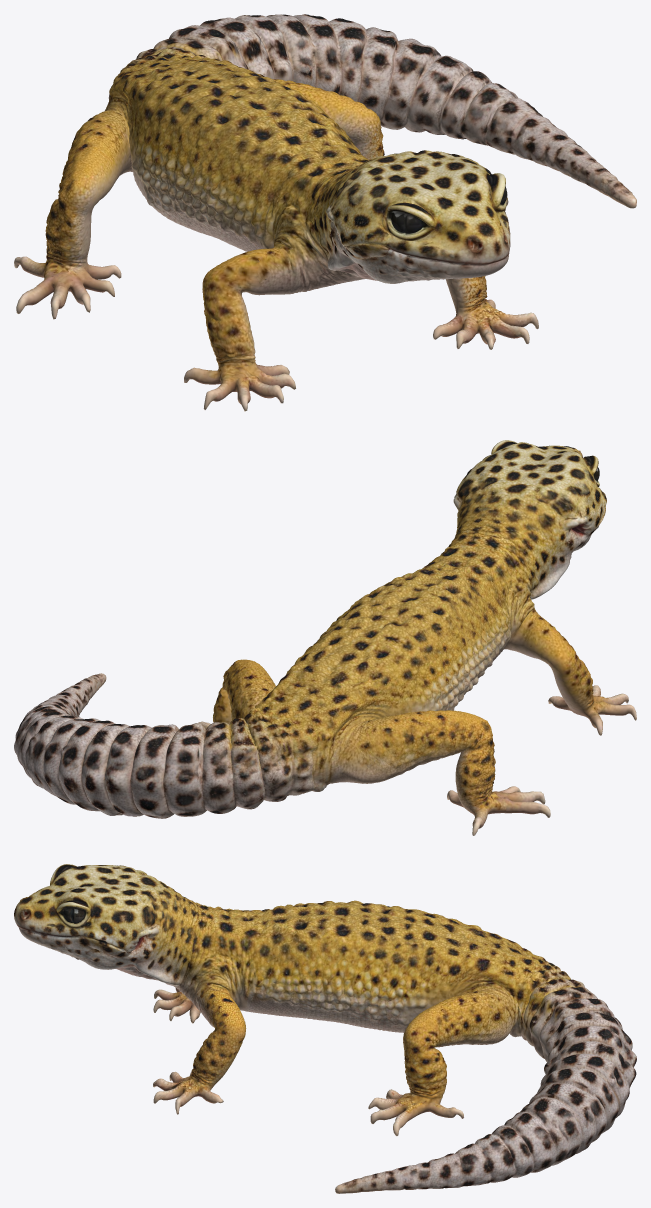
Rendered from lizard.glb.
The picture shows the model from 3 angles, top to bottom: view 1: azimuth 30°, elevation 25°; view 2: azimuth 150°, elevation 25°; view 3: azimuth 270°, elevation 25°; orthographic projection. The views are drawn at different scales.
Visible parts, largest first — view 1: tripo_part_0, tripo_part_1, tripo_part_2; view 2: tripo_part_0, tripo_part_1, tripo_part_2; view 3: tripo_part_0, tripo_part_1, tripo_part_2.
Boxes of the visible parts, bbox=[...] form: tripo_part_0: bbox=[14, 52, 538, 411]; tripo_part_1: bbox=[136, 14, 636, 208]; tripo_part_2: bbox=[312, 150, 510, 283]; tripo_part_0: bbox=[198, 534, 636, 835]; tripo_part_1: bbox=[14, 673, 266, 818]; tripo_part_2: bbox=[451, 440, 606, 599]; tripo_part_0: bbox=[153, 900, 570, 1136]; tripo_part_1: bbox=[335, 978, 636, 1193]; tripo_part_2: bbox=[14, 864, 202, 987].
Bounding box in the file's own units: 0.7982 × 0.3133 × 0.9796.
Materials: 3 (3 with a texture image).
